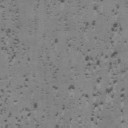oxide scale of temperature system: (52, 50, 128, 120), (54, 4, 120, 44), (0, 82, 38, 128), (1, 17, 38, 62)
